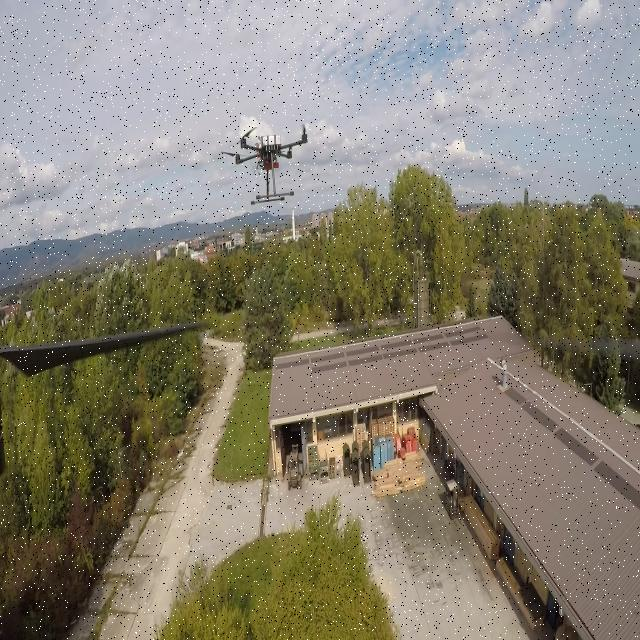UAV: (222, 120, 313, 206)
